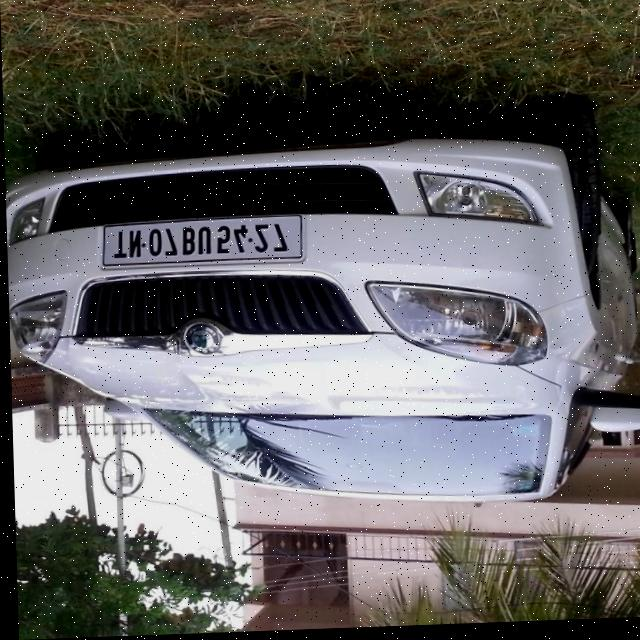plate: (100, 216, 301, 270)
